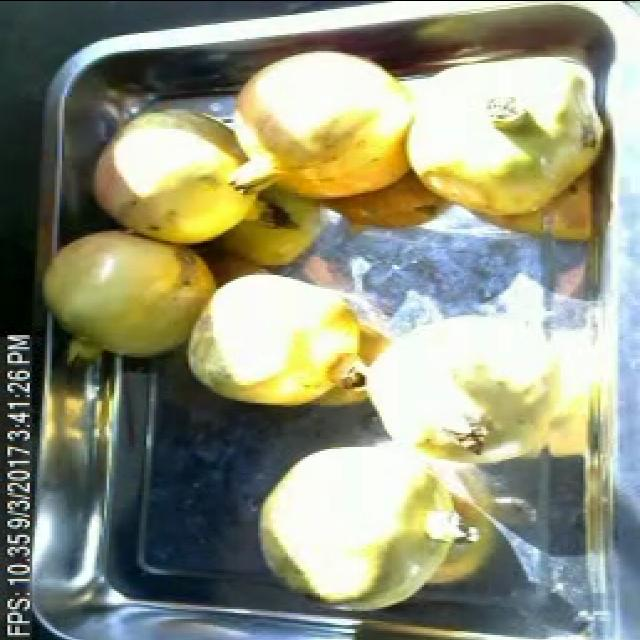fruit: (241, 432, 481, 616), (390, 56, 626, 236), (342, 296, 572, 480), (218, 34, 434, 216), (171, 262, 385, 416), (82, 92, 270, 252), (34, 222, 226, 368)
